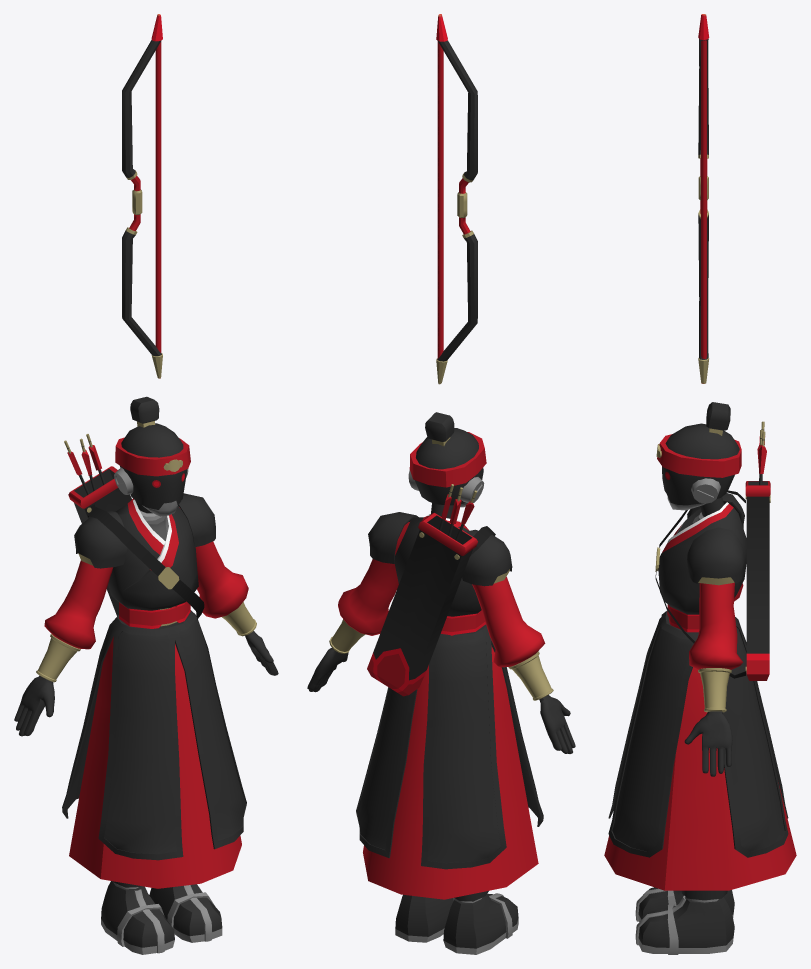
Rendered from monster_Distant.fbx.
3 renders of one model, left to right at view 1: azimuth 30°, elevation 25°; view 2: azimuth 150°, elevation 25°; view 3: azimuth 270°, elevation 25°, orthographic.
Parts seen in each view (by area): view 1: skirt02 (×2), body, arm, leg, head, arrow, shoulder, arrow_box, hand, arrow_string, arrow_box_string; view 2: skirt02 (×2), arrow_box, arm, leg, head, arrow, shoulder, body, arrow_string, hand; view 3: skirt02 (×2), head, leg, arrow_box, body, arm, shoulder, arrow_string, hand, arrow, arrow_box_string.
Part boxes in pixels (x1=…): skirt02 (×2): x1=62, y1=610, x2=246, y2=888; body: x1=108, y1=498, x2=198, y2=628; arm: x1=36, y1=507, x2=256, y2=682; leg: x1=101, y1=881, x2=222, y2=954; head: x1=114, y1=396, x2=190, y2=516; arrow: x1=122, y1=14, x2=162, y2=378; shoulder: x1=74, y1=493, x2=215, y2=568; arrow_box: x1=64, y1=434, x2=131, y2=616; hand: x1=14, y1=631, x2=278, y2=736; arrow_string: x1=155, y1=41, x2=161, y2=352; arrow_box_string: x1=84, y1=504, x2=204, y2=618; skirt02 (×2): x1=356, y1=624, x2=543, y2=899; arrow_box: x1=367, y1=484, x2=477, y2=696; arm: x1=329, y1=522, x2=553, y2=700; leg: x1=395, y1=891, x2=518, y2=954; head: x1=408, y1=412, x2=486, y2=507; arrow: x1=436, y1=14, x2=477, y2=384; shoulder: x1=368, y1=512, x2=512, y2=586; body: x1=395, y1=503, x2=485, y2=635; arrow_string: x1=437, y1=41, x2=443, y2=358; hand: x1=307, y1=648, x2=575, y2=753; skirt02 (×2): x1=604, y1=611, x2=796, y2=890; head: x1=656, y1=402, x2=741, y2=510; leg: x1=635, y1=887, x2=734, y2=954; arrow_box: x1=745, y1=421, x2=770, y2=680; body: x1=658, y1=497, x2=746, y2=632; arm: x1=689, y1=582, x2=743, y2=712; shoulder: x1=687, y1=493, x2=744, y2=585; arrow_string: x1=701, y1=40, x2=706, y2=358; hand: x1=684, y1=711, x2=732, y2=776; arrow: x1=698, y1=14, x2=709, y2=383; arrow_box_string: x1=655, y1=490, x2=745, y2=678.
Size of the model in its own units: 91.47 by 308 by 58.41.
